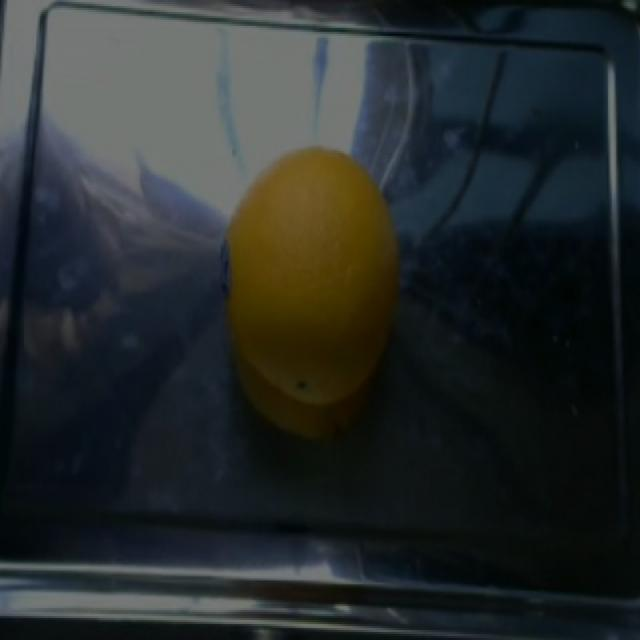Fruit: (217, 133, 407, 465)
